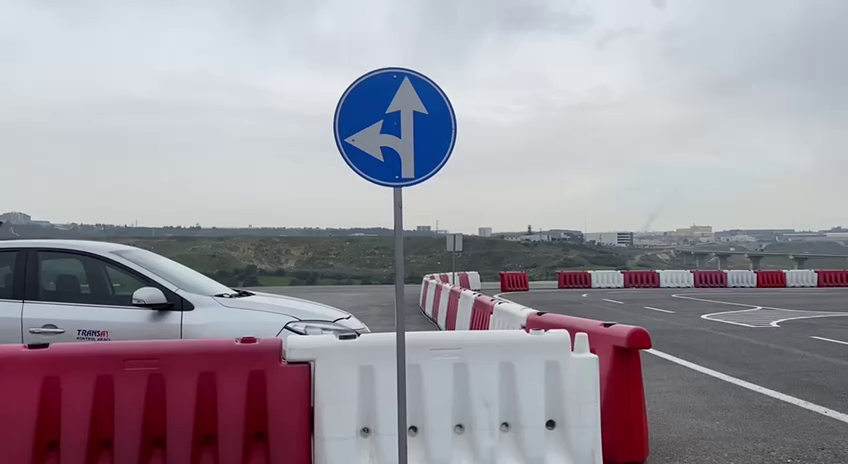forwardAndLeft: (330, 64, 459, 191)
